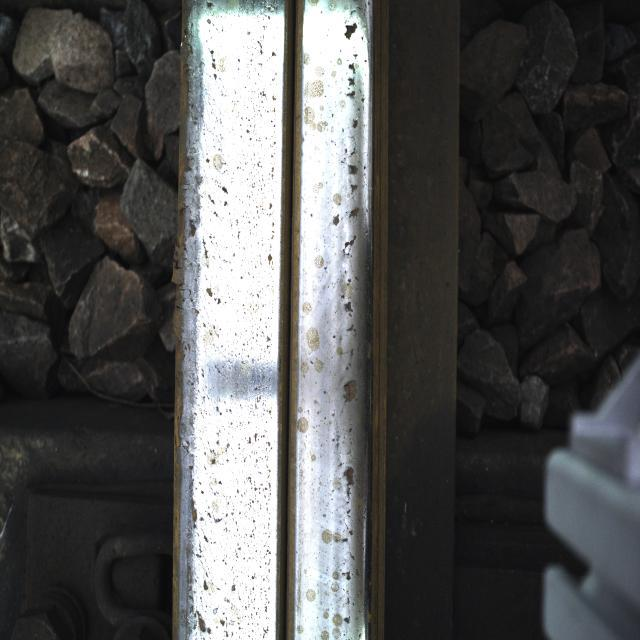scar: (188, 38, 258, 608), (305, 15, 363, 606)
